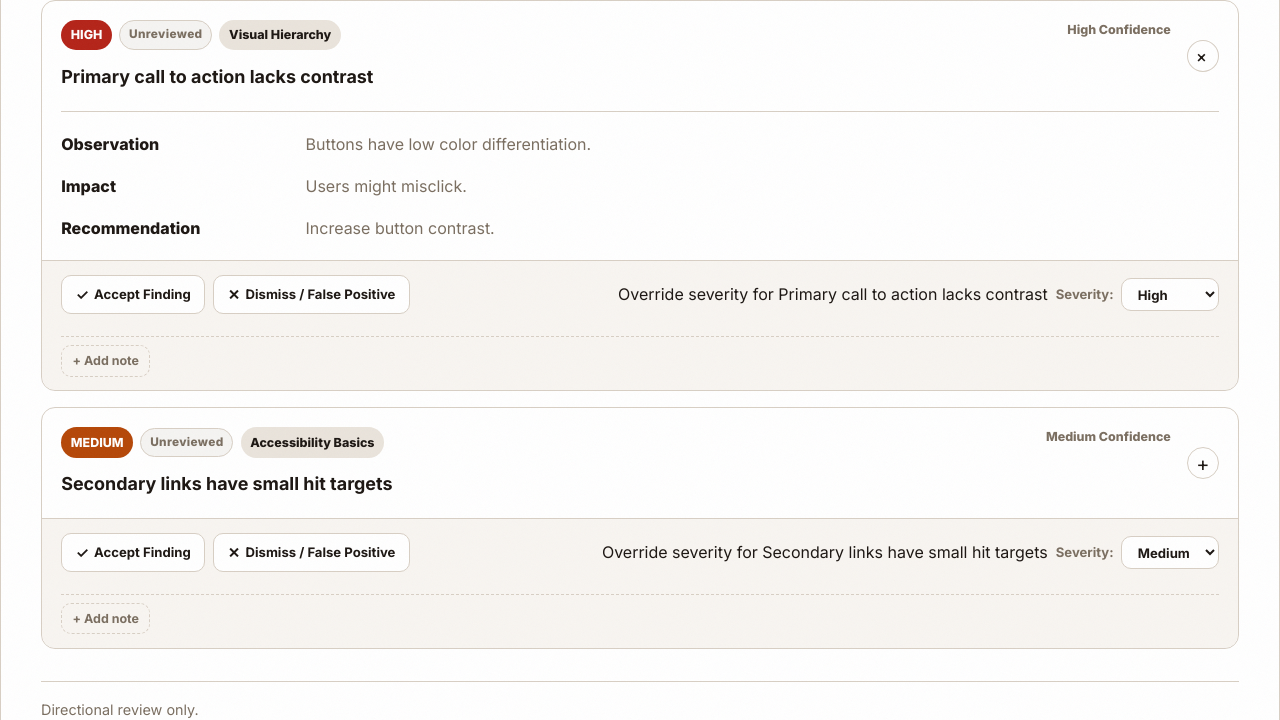
Test: AuditResults HITL Review Experience › persists reviewer note across status changes and clears it on reset
(page scrolled)
# Note input is progressively disclosed: click "+ Add note" to reveal textarea
Click the button "+ Add note" below "Observation": [106, 361] box [61, 345, 150, 377]
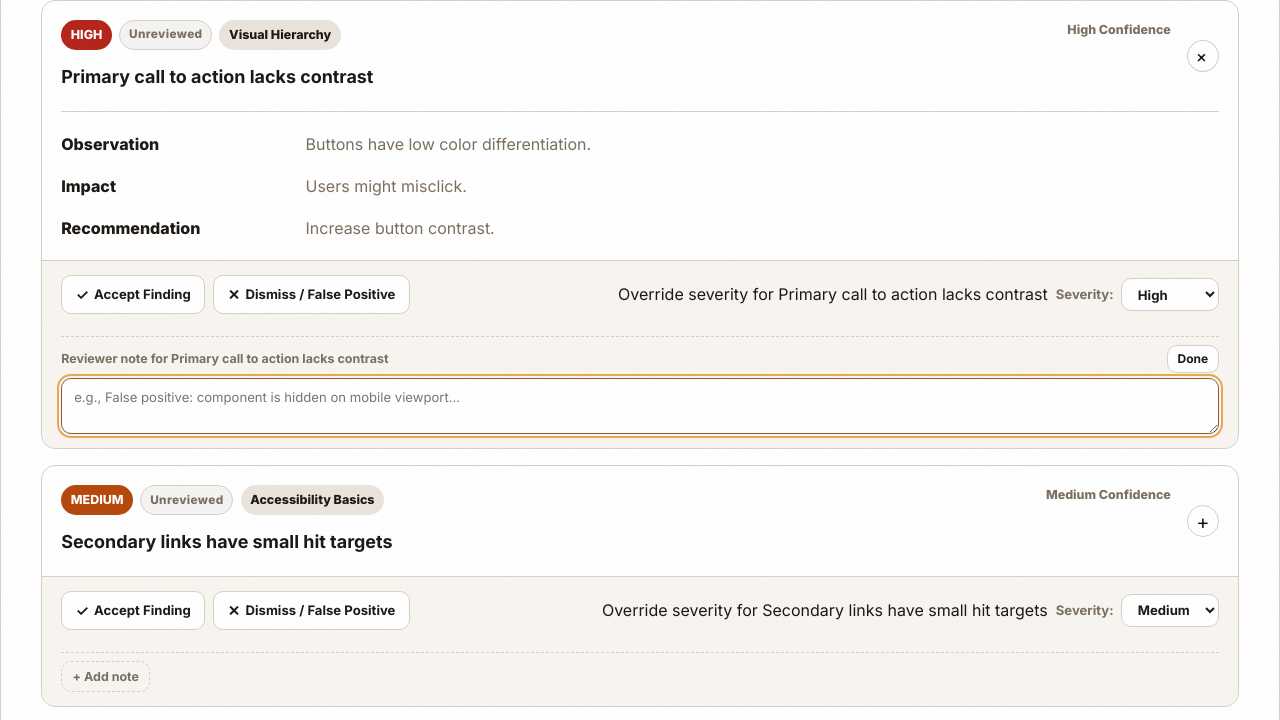
Replace the text in the text box labelled "Reviewer note for Primary call to action lacks contrast" with "False positive: icon is hidden on small screens": [640, 406] box [61, 378, 1219, 434]
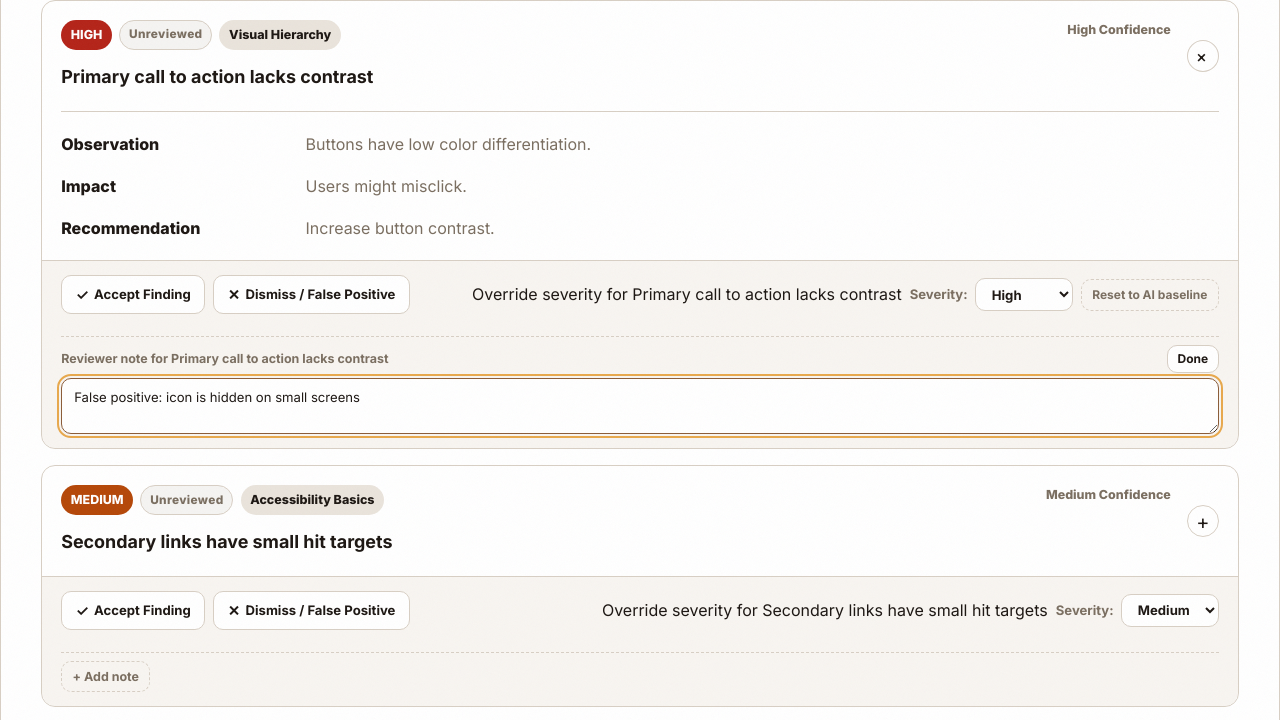
Click the button "Done": [1193, 359] box [1167, 345, 1219, 373]
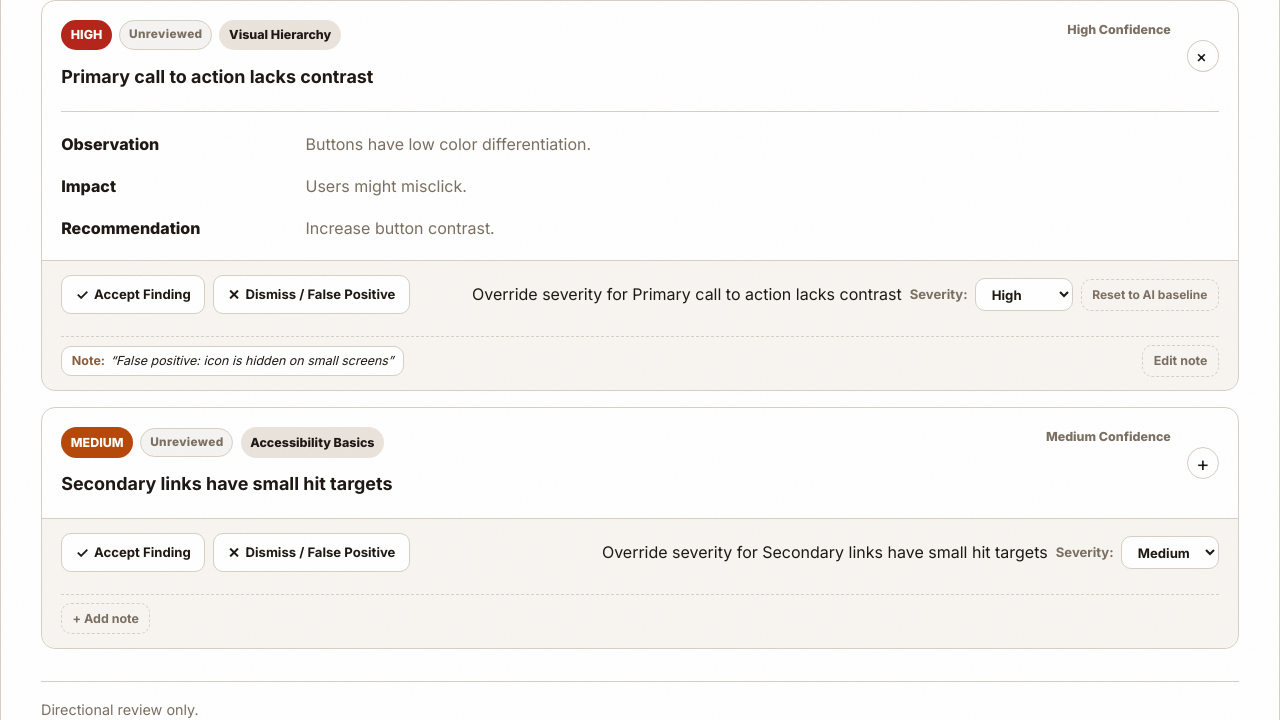
Check: the text "Note: “False positive: icon is hidden on small screens”" is shown, box [61, 346, 404, 376]
Check: the button "Edit note" is shown, box [1142, 345, 1219, 377]
# Click Accept Finding
Click the button "✓ Accept Finding" below "Observation": [133, 295] box [61, 275, 205, 314]
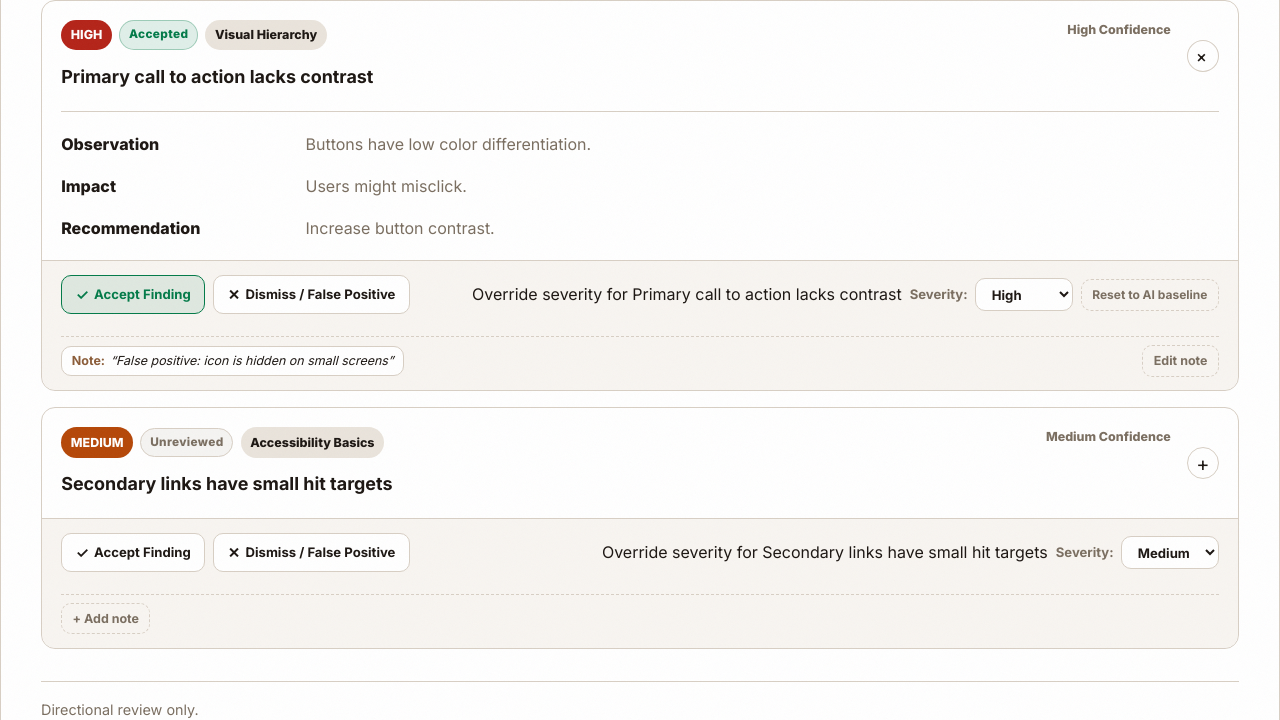
Check: the text "Note: “False positive: icon is hidden on small screens”" is shown, box [61, 346, 404, 376]
# Reopen note and verify value persisted
Click the button "Edit note": [1181, 361] box [1142, 345, 1219, 377]
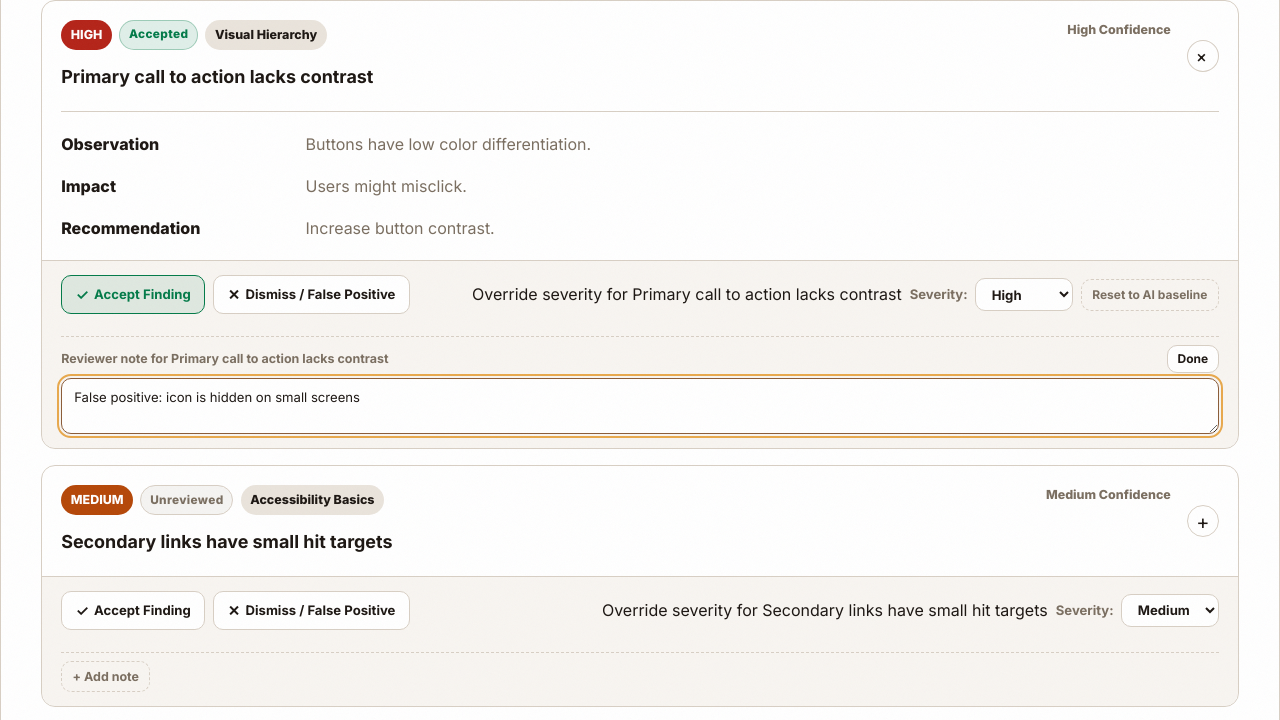
Click the button with aria-label "Reset to AI baseline: Primary call to action lacks contrast": [1150, 295] box [1081, 278, 1219, 311]
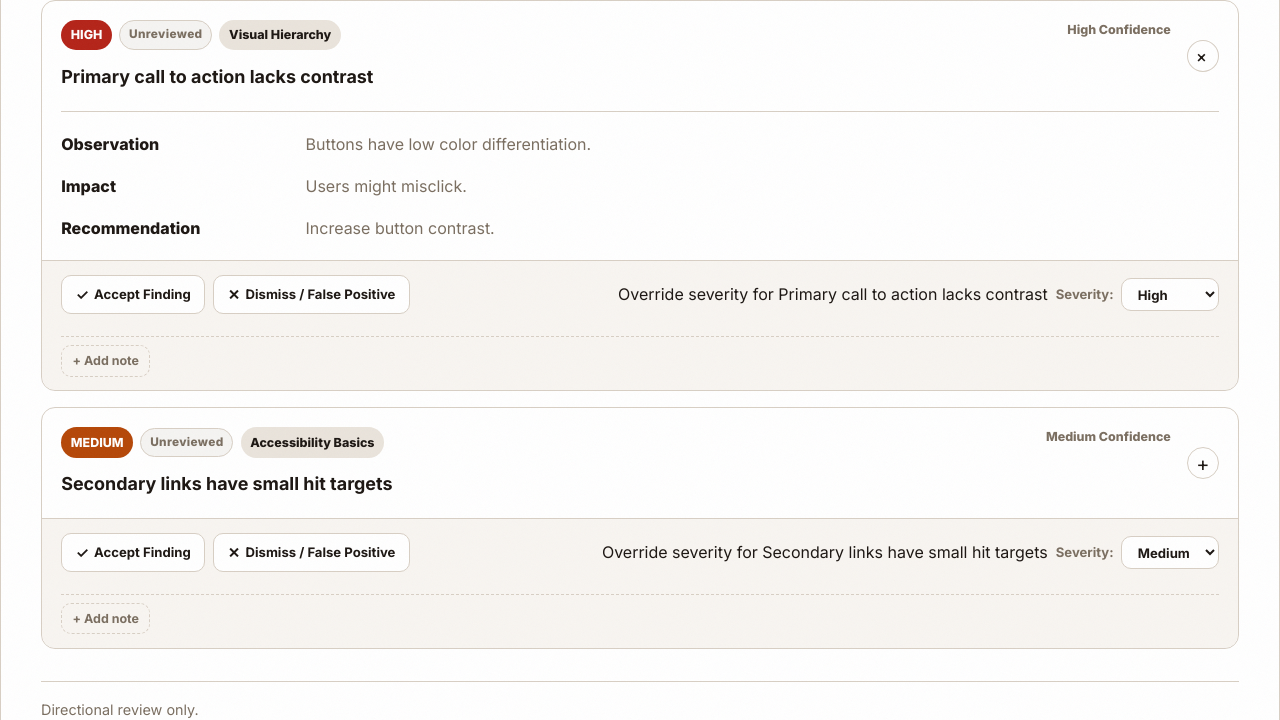
Check: the text "False positive: icon is hidden on small screens" is not shown
Check: the number of buttons "+ Add note" is 2, box [61, 345, 150, 377]; [61, 603, 150, 634]
Check: the text "Unreviewed" is shown 2 times, box [119, 20, 212, 50]; [140, 428, 233, 457]
